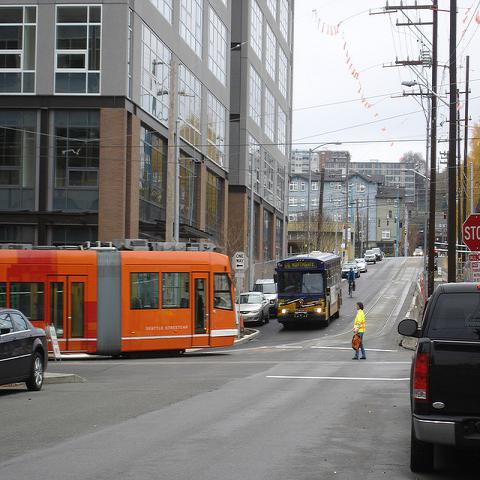bus: (0, 246, 248, 357), (276, 252, 344, 326)
car: (394, 271, 480, 474), (0, 308, 49, 393), (248, 278, 278, 317), (236, 291, 270, 325), (342, 263, 360, 279), (354, 258, 368, 272), (363, 249, 376, 264), (372, 246, 383, 262), (413, 247, 423, 256), (434, 245, 438, 259)
